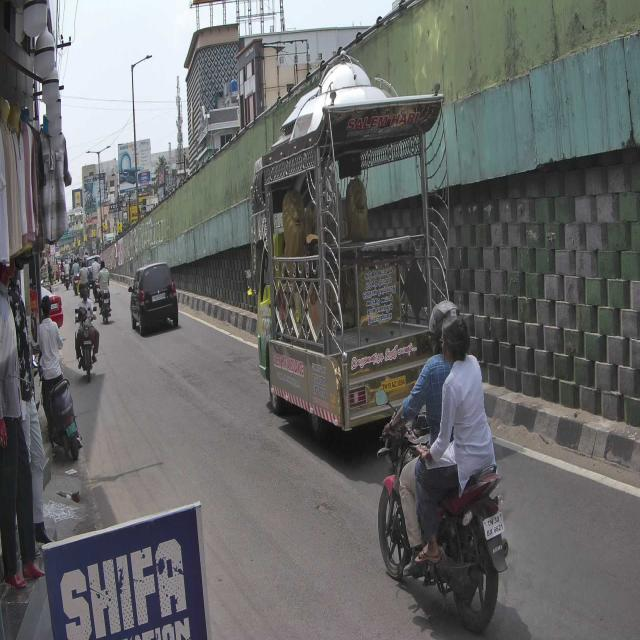double_rider: (373, 296, 510, 636)
